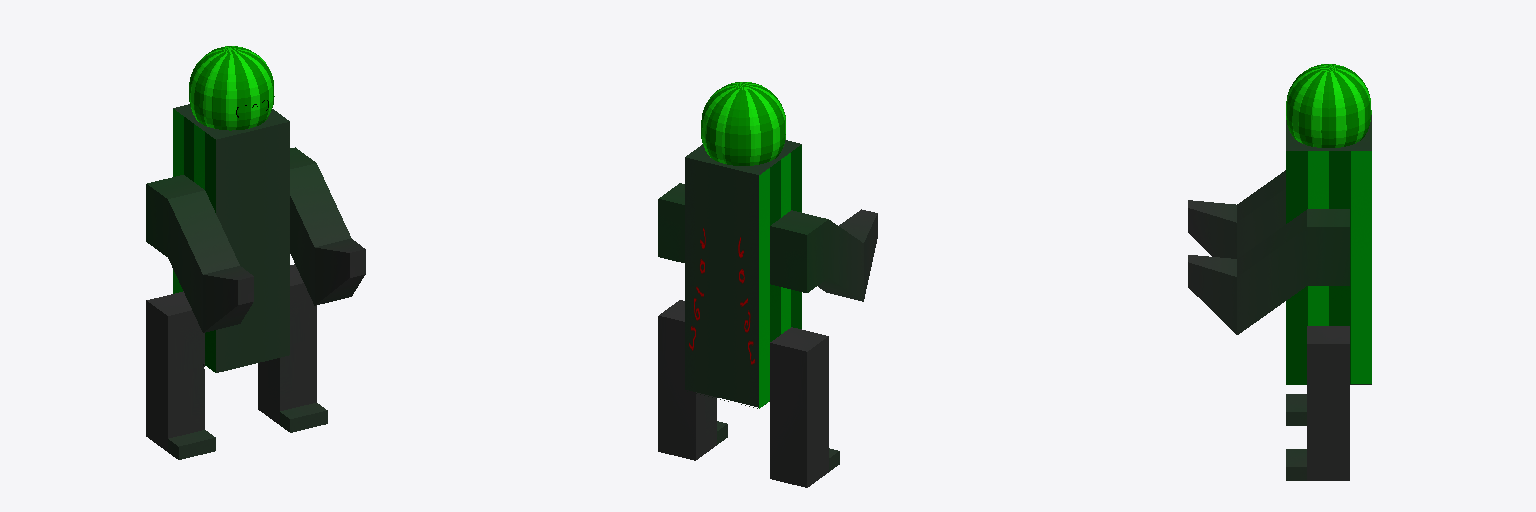
The picture shows the model from 3 angles: view 1: azimuth 30°, elevation 25°; view 2: azimuth 150°, elevation 25°; view 3: azimuth 270°, elevation 25°; orthographic projection.
Parts seen in each view (by area): view 1: Cube_Cube.001, Sphere; view 2: Cube_Cube.001, Sphere; view 3: Cube_Cube.001, Sphere.
Part boxes in pixels (left/top/right/bottom): Cube_Cube.001: left=146, top=104, right=365, bottom=459; Sphere: left=189, top=46, right=274, bottom=130; Cube_Cube.001: left=658, top=140, right=877, bottom=487; Sphere: left=701, top=82, right=785, bottom=165; Cube_Cube.001: left=1188, top=115, right=1371, bottom=480; Sphere: left=1286, top=64, right=1371, bottom=147.
Bounding box in the file's own units: 4 × 9.67 × 4.27.
Materials: 3 (3 with a texture image).